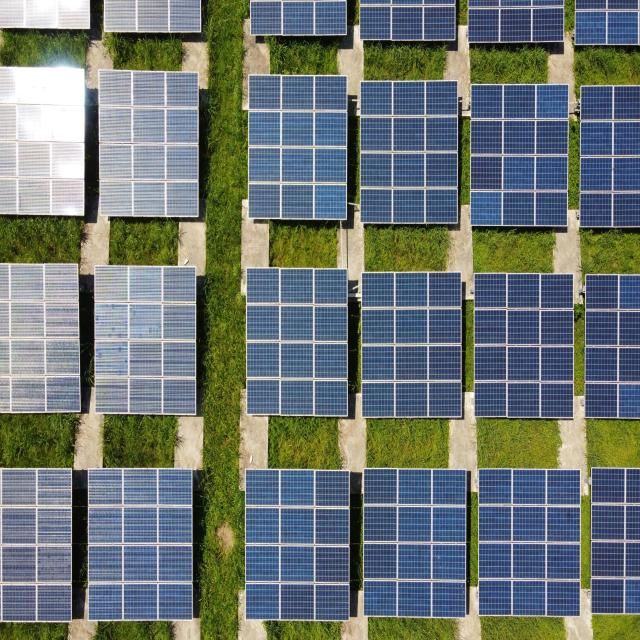clean-solar-panel: (361, 271, 461, 418), (474, 273, 574, 418), (360, 80, 458, 225), (470, 84, 569, 227), (580, 84, 640, 229), (585, 273, 640, 418), (468, 0, 564, 42), (360, 0, 456, 40), (250, 0, 346, 36)
dust-solar-panel: (88, 469, 192, 620), (246, 267, 348, 418), (95, 265, 196, 416), (99, 69, 199, 218), (249, 76, 348, 220), (0, 67, 85, 216), (0, 265, 80, 414), (0, 469, 72, 623), (104, 0, 201, 33)
